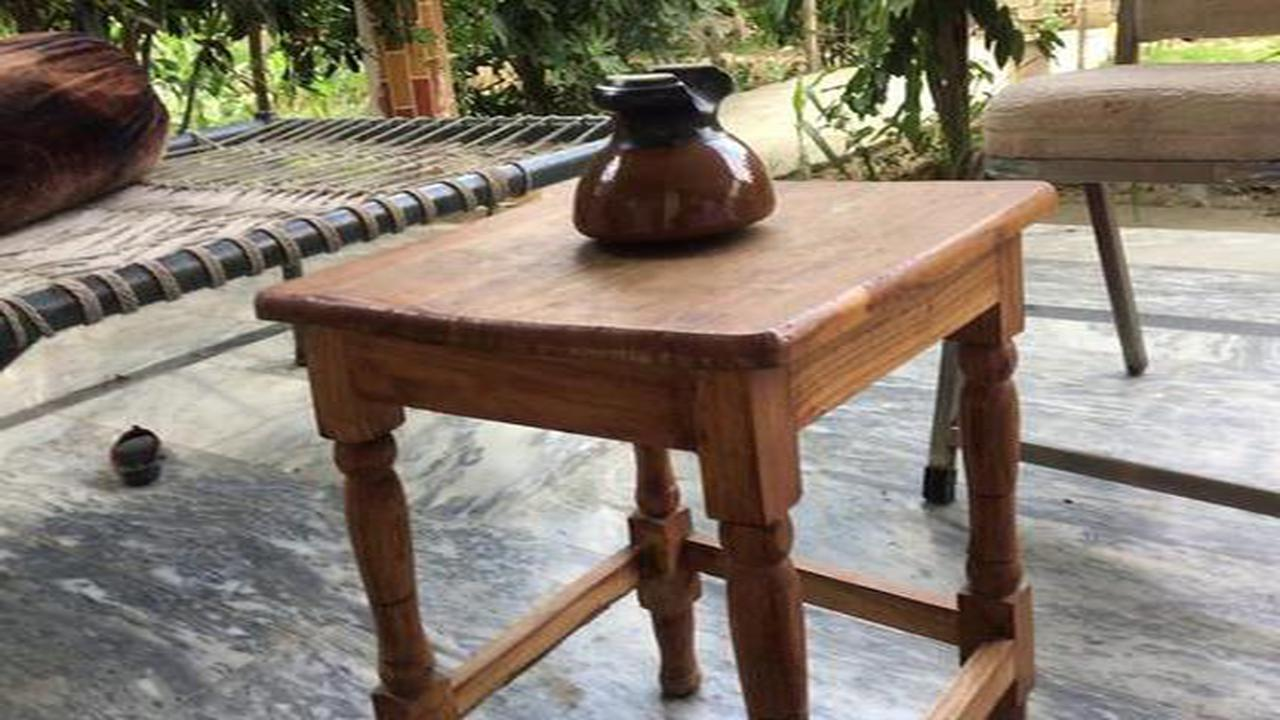insulator_pin: (561, 56, 801, 258)
